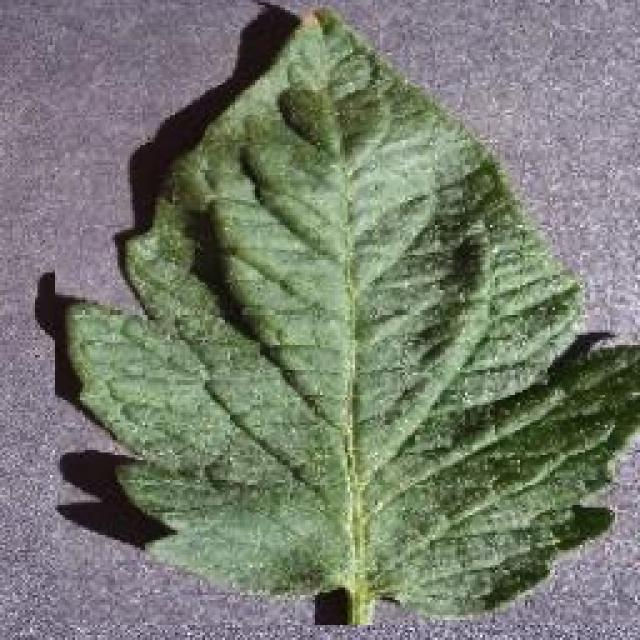Healthy: (55, 0, 640, 625)
